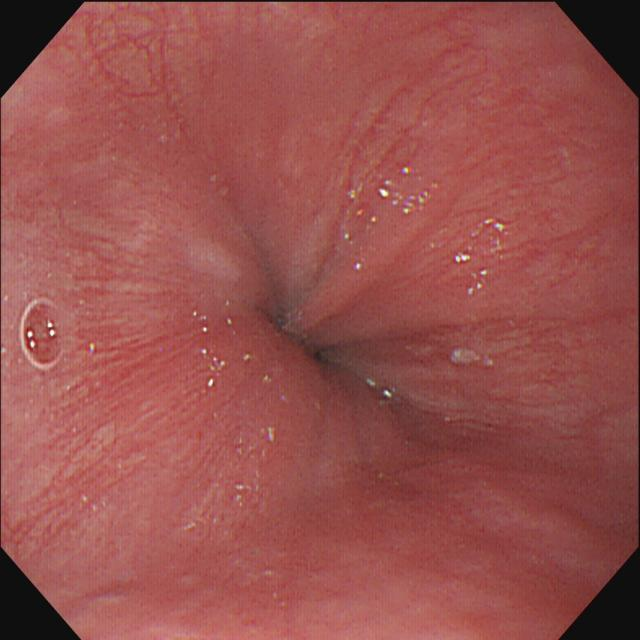I: (182, 209, 428, 456)
T: (16, 297, 67, 372)
